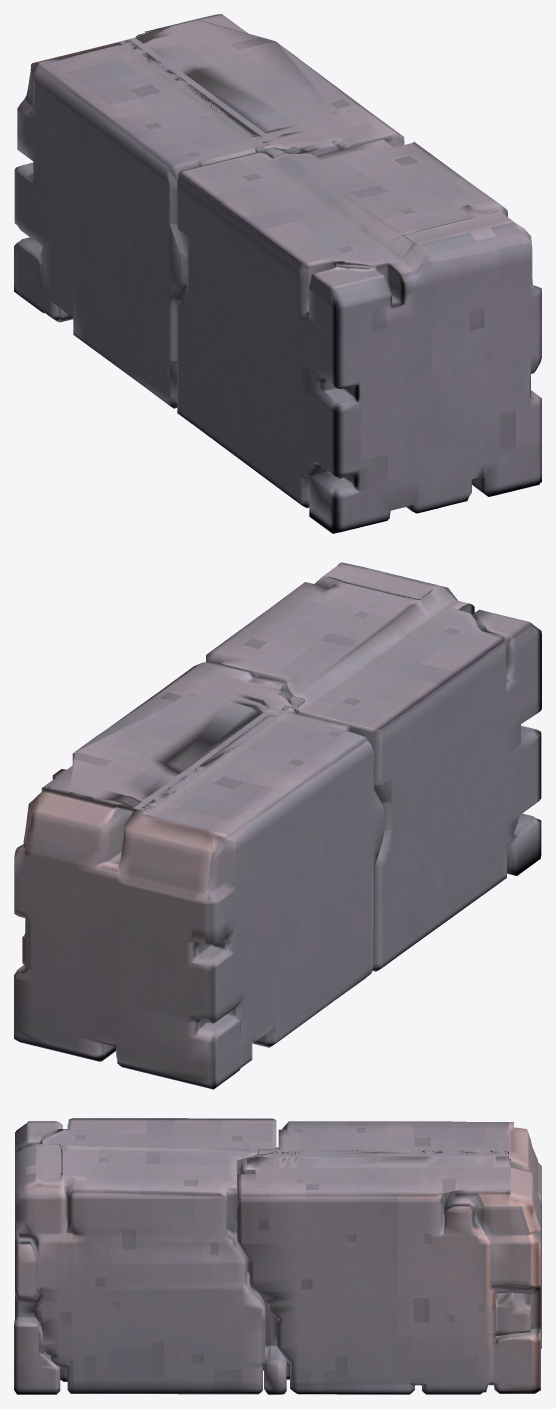
File: wall_2m.glb
3 renders of one model, top to bottom at view 1: azimuth 30°, elevation 25°; view 2: azimuth 150°, elevation 25°; view 3: azimuth 270°, elevation 25°, orthographic. The views are drawn at different scales.
Visible parts, largest first — view 1: tripo_node_0c94ce12-ff63-41a3-8b8b-d6bf9933f88b; view 2: tripo_node_0c94ce12-ff63-41a3-8b8b-d6bf9933f88b; view 3: tripo_node_0c94ce12-ff63-41a3-8b8b-d6bf9933f88b.
Part boxes in pixels (<box>): tripo_node_0c94ce12-ff63-41a3-8b8b-d6bf9933f88b: <box>14,14,541,533</box>; tripo_node_0c94ce12-ff63-41a3-8b8b-d6bf9933f88b: <box>14,562,541,1089</box>; tripo_node_0c94ce12-ff63-41a3-8b8b-d6bf9933f88b: <box>14,1118,541,1394</box>.
Bounding box in the file's own units: 0.3718 × 0.4344 × 1.
1 material, 1 textured.
